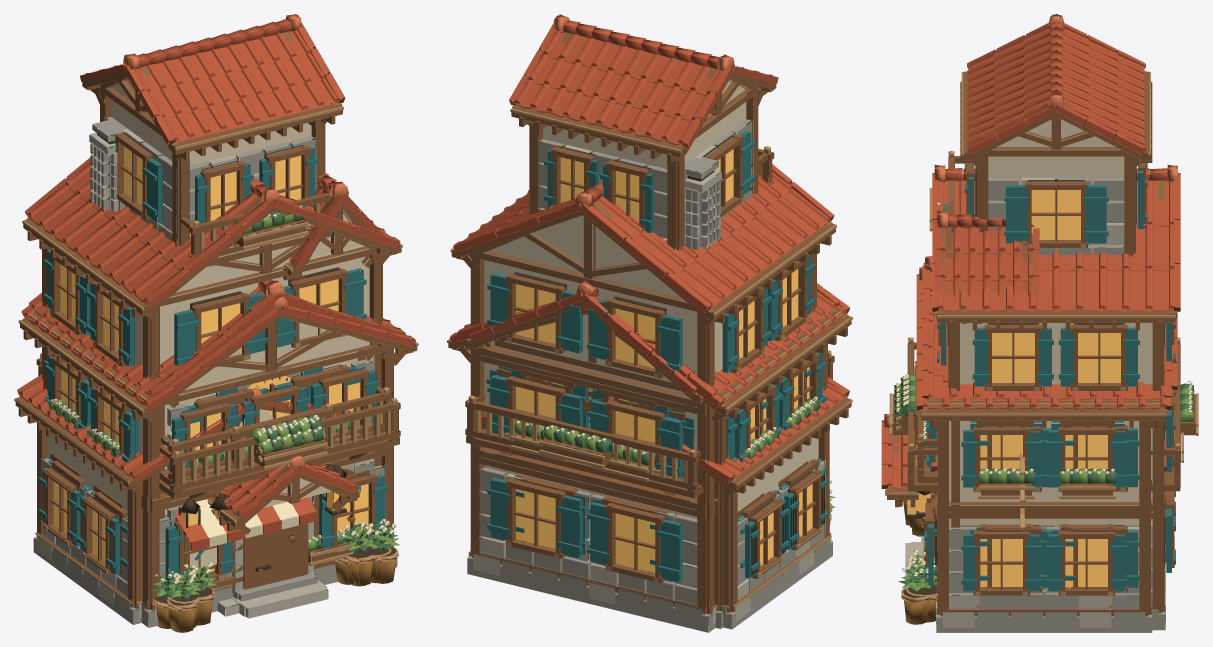
Rendered from alpine.glb.
3 renders of one model, left to right at view 1: azimuth 30°, elevation 25°; view 2: azimuth 150°, elevation 25°; view 3: azimuth 270°, elevation 25°, orthographic.
Parts seen in each view (by area): view 1: alpine_villa_3_geometry, alpine_hotel_2_geometry, alpine_junction_hub_geometry, alpine_shop_2_geometry, alpine_tower_2_geometry; view 2: alpine_villa_3_geometry, alpine_hotel_2_geometry, alpine_junction_hub_geometry, alpine_tower_2_geometry, alpine_shop_2_geometry; view 3: alpine_villa_3_geometry, alpine_hotel_2_geometry, alpine_shop_2_geometry, alpine_tower_2_geometry, alpine_junction_hub_geometry.
Boxes of the visible parts, box(x1,y1,x2,y2) form: alpine_villa_3_geometry: box(22, 14, 402, 606); alpine_hotel_2_geometry: box(18, 296, 418, 632); alpine_junction_hub_geometry: box(14, 374, 361, 628); alpine_shop_2_geometry: box(29, 282, 405, 627); alpine_tower_2_geometry: box(166, 279, 387, 625); alpine_villa_3_geometry: box(450, 14, 836, 632); alpine_hotel_2_geometry: box(447, 283, 852, 629); alpine_junction_hub_geometry: box(481, 377, 852, 629); alpine_tower_2_geometry: box(467, 280, 703, 572); alpine_shop_2_geometry: box(457, 283, 842, 565); alpine_villa_3_geometry: box(898, 14, 1180, 630); alpine_hotel_2_geometry: box(881, 267, 1198, 632); alpine_shop_2_geometry: box(903, 257, 1173, 617); alpine_tower_2_geometry: box(896, 256, 1183, 591); alpine_junction_hub_geometry: box(919, 430, 1166, 560).
Size of the model in its own units: 1.04 by 1.76 by 0.98.
